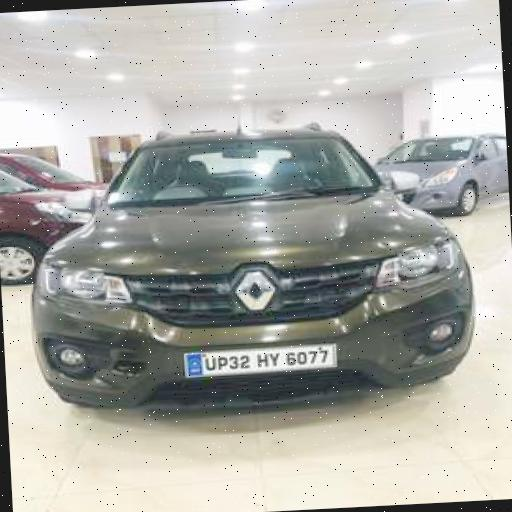license_plate`: (180, 343, 336, 378)
